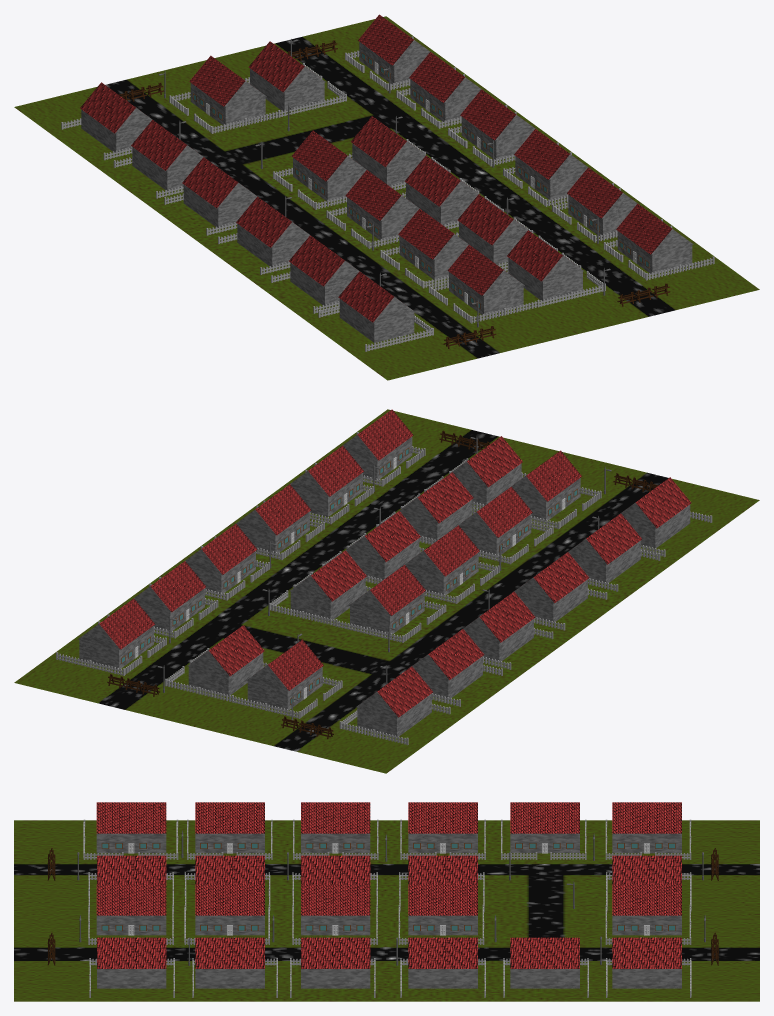
Rendered from GameScene.fbx.
3 renders of one model, top to bottom at view 1: azimuth 30°, elevation 25°; view 2: azimuth 150°, elevation 25°; view 3: azimuth 270°, elevation 25°, orthographic.
Visible parts, largest first — view 1: Plane, House, House.002, House.022, House.003, House.021, House.001, House.012, House.008, House.013, House.016, House.014 (+11 smaller); view 2: Plane, House.020, House.022, House.014, House.023, House.021, House.013, House.008, House.004, House.010, House.009, House.007 (+11 smaller); view 3: Plane, House.007, House.015, House.019, House.023, House.003, House.011, House.002, House, House.010, House.006, House.014 (+11 smaller).
Part boxes in pixels (<box>): Plane: <box>14,16,759,380</box>; House: <box>338,271,415,342</box>; House.002: <box>507,230,583,301</box>; House.022: <box>248,41,325,111</box>; House.003: <box>616,203,693,274</box>; House.021: <box>189,55,266,126</box>; House.001: <box>447,245,524,314</box>; House.012: <box>182,157,257,227</box>; House.008: <box>236,196,310,267</box>; House.013: <box>291,130,366,201</box>; House.016: <box>131,120,203,191</box>; House.014: <box>351,116,425,186</box>; Plane: <box>14,409,759,773</box>; House.020: <box>356,666,432,736</box>; House.022: <box>187,625,264,695</box>; House.014: <box>289,550,366,621</box>; House.023: <box>78,598,155,669</box>; House.021: <box>246,639,323,710</box>; House.013: <box>349,565,425,635</box>; House.008: <box>514,552,588,622</box>; House.004: <box>567,513,641,584</box>; House.010: <box>345,511,420,581</box>; House.009: <box>404,525,479,595</box>; House.007: <box>290,445,363,516</box>; Plane: <box>14,820,759,1001</box>; House.007: <box>195,937,264,988</box>; House.015: <box>408,937,477,988</box>; House.019: <box>510,937,579,988</box>; House.023: <box>612,937,681,988</box>; House.003: <box>97,937,166,988</box>; House.011: <box>301,937,370,988</box>; House.002: <box>96,884,166,935</box>; House: <box>96,802,166,853</box>; House.010: <box>301,884,370,935</box>; House.006: <box>195,884,264,935</box>; House.014: <box>408,884,477,935</box>.
Bounding box in the file's own units: 1745 × 188 × 3033.
